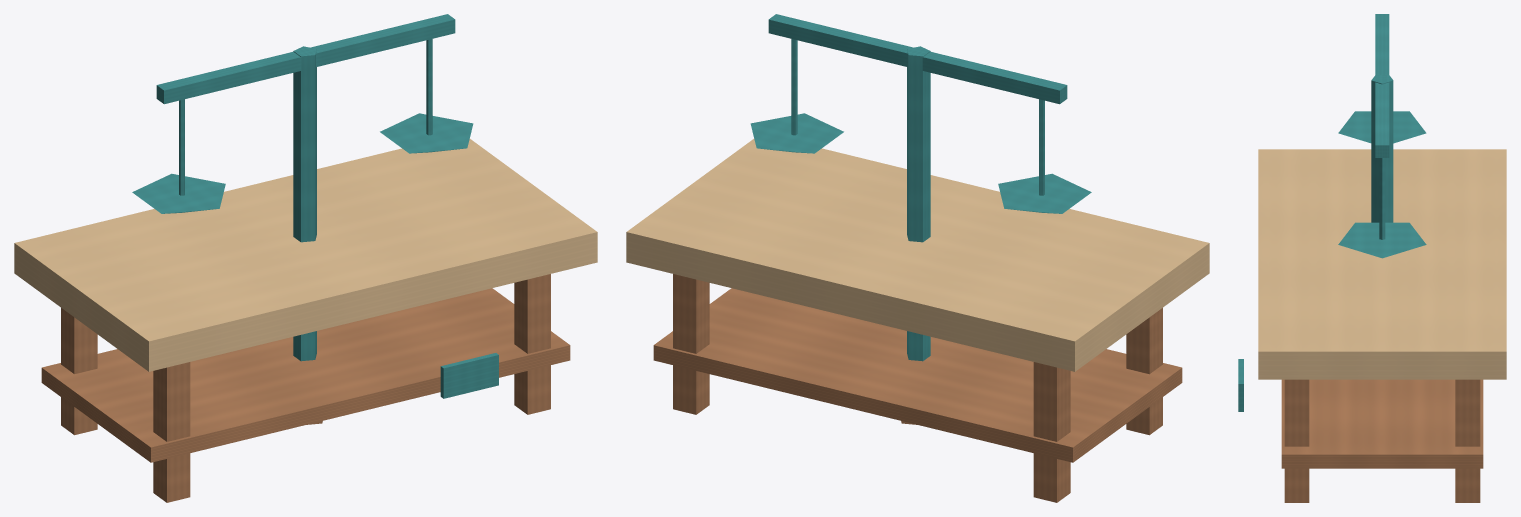
Rendered from atlas100-s091-a02.lod1.glb.
3 views of the same model, side by side, from view 1: azimuth 30°, elevation 25°; view 2: azimuth 150°, elevation 25°; view 3: azimuth 270°, elevation 25° (orthographic). The views are drawn at different scales.
Visible parts, largest first — view 1: atlas100-s091-a02:part-004, atlas100-s091-a02:part-005, atlas100-s091-a02:part-008, atlas100-s091-a02:part-006, atlas100-s091-a02:part-001, atlas100-s091-a02:part-003, atlas100-s091-a02:part-000, atlas100-s091-a02:part-012, atlas100-s091-a02:part-010, atlas100-s091-a02:part-013, atlas100-s091-a02:part-011; view 2: atlas100-s091-a02:part-004, atlas100-s091-a02:part-005, atlas100-s091-a02:part-008, atlas100-s091-a02:part-006, atlas100-s091-a02:part-000, atlas100-s091-a02:part-002, atlas100-s091-a02:part-001, atlas100-s091-a02:part-012, atlas100-s091-a02:part-010, atlas100-s091-a02:part-011; view 3: atlas100-s091-a02:part-004, atlas100-s091-a02:part-005, atlas100-s091-a02:part-002, atlas100-s091-a02:part-003, atlas100-s091-a02:part-012, atlas100-s091-a02:part-006, atlas100-s091-a02:part-008, atlas100-s091-a02:part-010, atlas100-s091-a02:part-011, atlas100-s091-a02:part-013.
Part boxes in pixels (x1,y1,x2,y2): atlas100-s091-a02:part-004: [14, 139, 597, 371]; atlas100-s091-a02:part-005: [41, 288, 570, 462]; atlas100-s091-a02:part-008: [156, 14, 455, 104]; atlas100-s091-a02:part-006: [293, 46, 316, 361]; atlas100-s091-a02:part-001: [153, 362, 190, 502]; atlas100-s091-a02:part-003: [514, 274, 550, 414]; atlas100-s091-a02:part-000: [61, 308, 97, 435]; atlas100-s091-a02:part-012: [380, 113, 473, 153]; atlas100-s091-a02:part-010: [132, 173, 225, 213]; atlas100-s091-a02:part-013: [440, 353, 498, 398]; atlas100-s091-a02:part-011: [426, 39, 432, 135]; atlas100-s091-a02:part-004: [626, 139, 1209, 371]; atlas100-s091-a02:part-005: [653, 288, 1182, 462]; atlas100-s091-a02:part-008: [768, 14, 1067, 104]; atlas100-s091-a02:part-006: [907, 46, 930, 361]; atlas100-s091-a02:part-000: [1033, 362, 1070, 502]; atlas100-s091-a02:part-002: [673, 274, 709, 414]; atlas100-s091-a02:part-001: [1126, 308, 1162, 435]; atlas100-s091-a02:part-012: [750, 113, 843, 153]; atlas100-s091-a02:part-010: [998, 173, 1091, 213]; atlas100-s091-a02:part-011: [791, 39, 797, 135]; atlas100-s091-a02:part-004: [1258, 149, 1506, 379]; atlas100-s091-a02:part-005: [1281, 379, 1483, 468]; atlas100-s091-a02:part-002: [1455, 379, 1480, 502]; atlas100-s091-a02:part-003: [1284, 379, 1309, 502]; atlas100-s091-a02:part-012: [1338, 222, 1426, 258]; atlas100-s091-a02:part-006: [1371, 75, 1393, 222]; atlas100-s091-a02:part-008: [1375, 14, 1389, 157]; atlas100-s091-a02:part-010: [1338, 111, 1426, 143]; atlas100-s091-a02:part-011: [1379, 158, 1385, 239]; atlas100-s091-a02:part-013: [1238, 359, 1243, 411].
Size of the model in its own units: 3.08 by 2.4 by 1.73.
3 materials, 3 textured.
